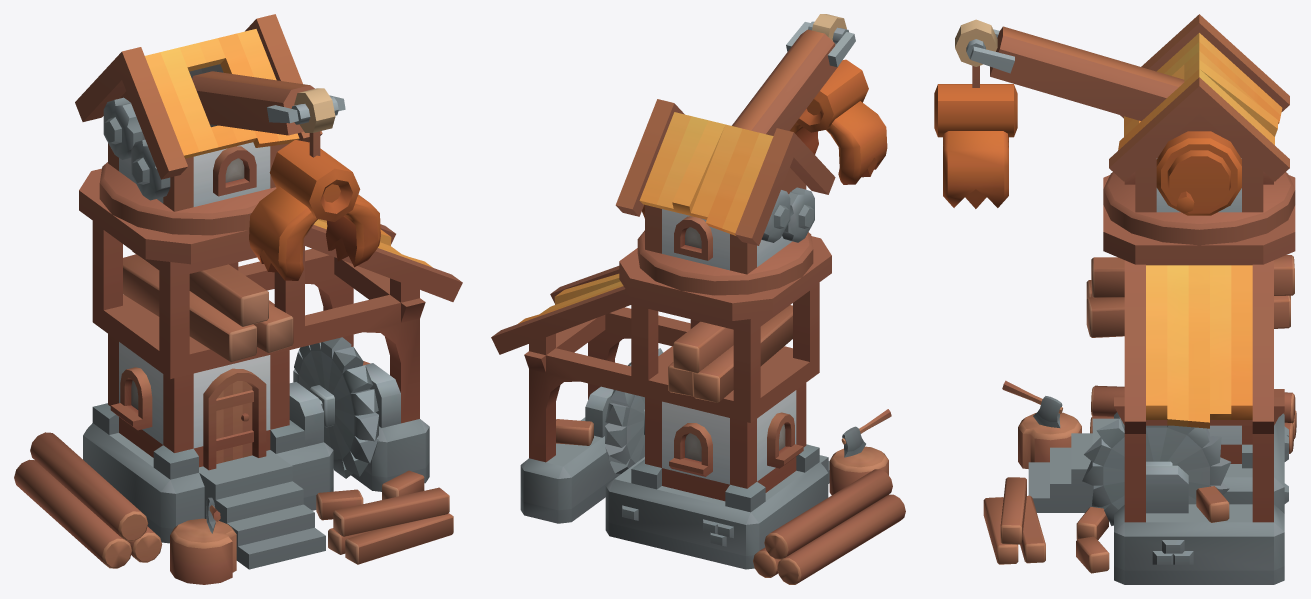
File: kay-serraria-amarela.gltf
The picture shows the model from 3 angles, left to right: view 1: azimuth 30°, elevation 25°; view 2: azimuth 150°, elevation 25°; view 3: azimuth 270°, elevation 25°; orthographic projection. The views are drawn at different scales.
Visible parts, largest first — view 1: building_lumbermill_yellow; view 2: building_lumbermill_yellow; view 3: building_lumbermill_yellow.
Boxes of the visible parts, bbox=[...] form: building_lumbermill_yellow: bbox=[14, 14, 462, 584]; building_lumbermill_yellow: bbox=[491, 14, 905, 584]; building_lumbermill_yellow: bbox=[934, 14, 1296, 584].
Size of the model in its own units: 6.83 by 8.54 by 5.95.
Materials: 1 (1 with a texture image).
